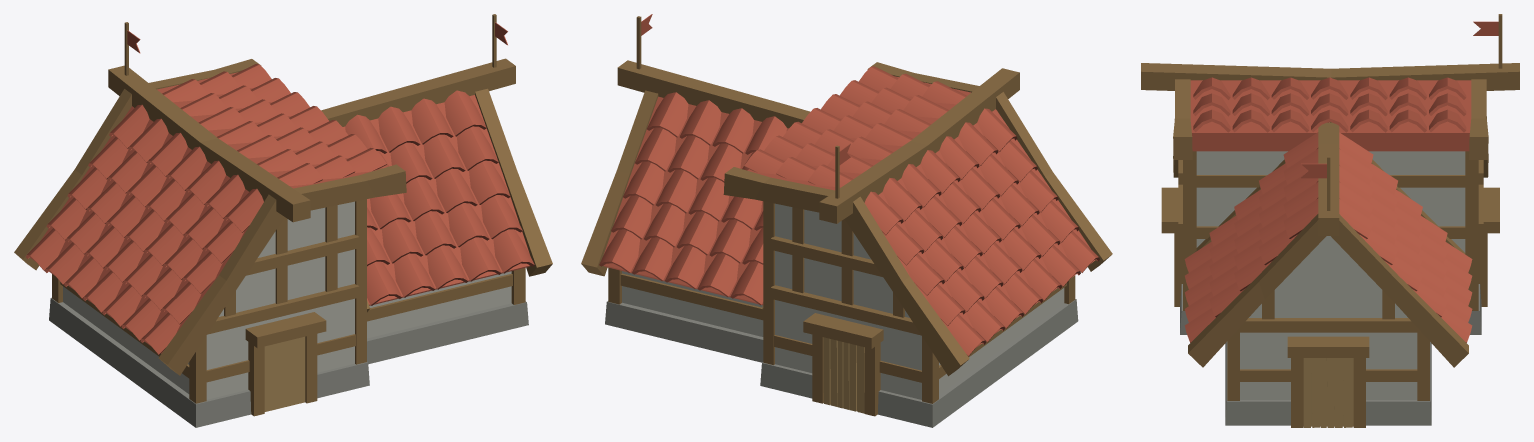
Rendered from House.fbx.
3 renders of one model, left to right at view 1: azimuth 30°, elevation 25°; view 2: azimuth 150°, elevation 25°; view 3: azimuth 270°, elevation 25°, orthographic. The views are drawn at different scales.
Parts seen in each view (by area): view 1: 9, 7, 19, 18, 14, 17, 8, 16, 10, 0, 4, 13 (+9 smaller); view 2: 9, 7, 19, 18, 14, 17, 8, 16, 10, 0, 4, 13 (+9 smaller); view 3: 9, 7, 10, 8, 5, 14, 2, 16, 17, 18, 19, 1 (+9 smaller).
Part boxes in pixels (x1,y1,x2,y2): 9: [63, 201, 511, 399]; 7: [14, 59, 552, 375]; 19: [26, 228, 534, 354]; 18: [46, 195, 522, 324]; 14: [109, 90, 486, 232]; 17: [67, 160, 510, 293]; 8: [108, 58, 515, 222]; 16: [88, 126, 498, 263]; 10: [30, 72, 530, 353]; 0: [49, 297, 369, 427]; 4: [60, 273, 512, 382]; 13: [162, 79, 322, 185]; 9: [622, 203, 1064, 399]; 7: [581, 62, 1112, 376]; 19: [599, 229, 1099, 356]; 18: [611, 195, 1079, 325]; 14: [647, 92, 1017, 235]; 17: [623, 161, 1058, 295]; 8: [617, 60, 1019, 223]; 16: [635, 127, 1037, 265]; 10: [603, 76, 1095, 347]; 0: [760, 299, 1078, 427]; 4: [620, 273, 1066, 382]; 13: [808, 81, 966, 187]; 9: [1196, 151, 1465, 399]; 7: [1173, 79, 1488, 367]; 10: [1190, 80, 1471, 234]; 8: [1141, 63, 1519, 235]; 5: [1161, 175, 1499, 357]; 14: [1283, 132, 1373, 238]; 2: [1183, 151, 1478, 400]; 16: [1259, 163, 1398, 265]; 17: [1234, 189, 1422, 291]; 18: [1209, 216, 1447, 317]; 19: [1184, 242, 1472, 342]; 1: [1225, 341, 1431, 425].
Size of the model in its own units: 155 by 94.55 by 117.
